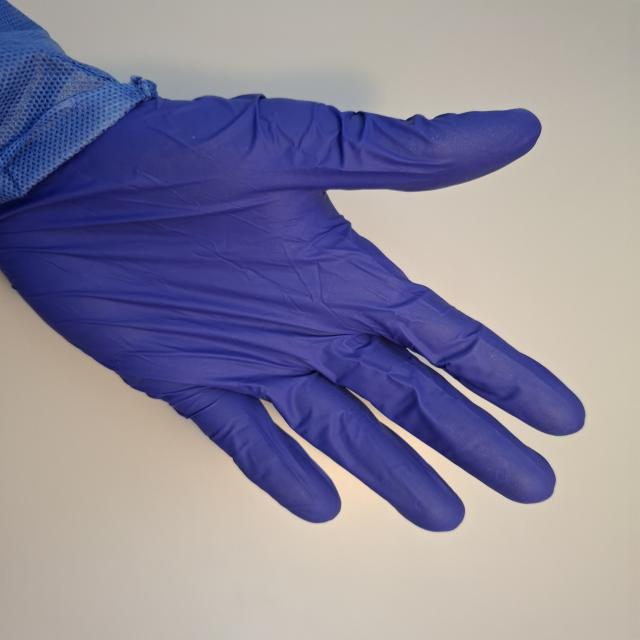glove_on: (1, 64, 590, 536)
